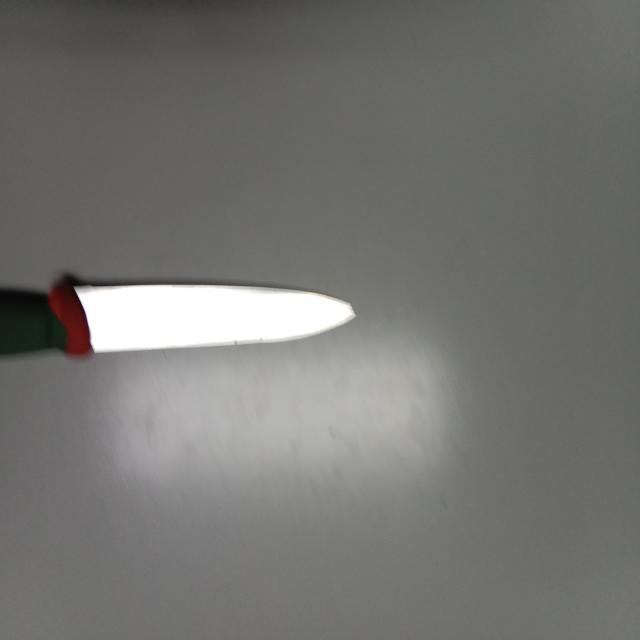Knife: (0, 281, 354, 355)
